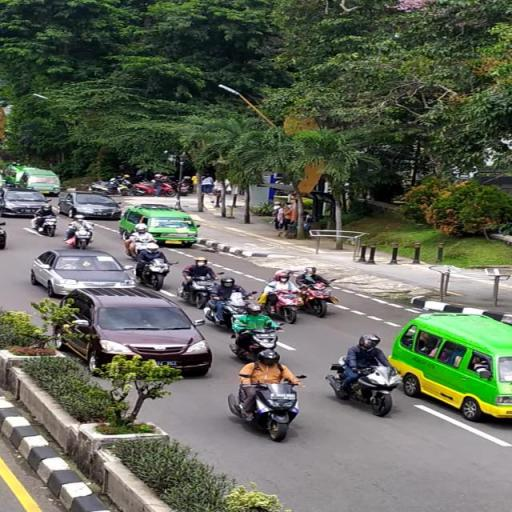Helmet: (354, 330, 382, 354), (259, 346, 279, 367), (244, 300, 262, 320), (274, 268, 293, 286), (220, 274, 236, 290), (192, 254, 208, 269), (302, 263, 316, 277), (134, 221, 148, 235), (40, 202, 52, 216), (147, 241, 158, 255), (73, 214, 87, 224)
Motor: (226, 379, 300, 441), (329, 356, 395, 416), (225, 324, 280, 366), (127, 254, 171, 289), (204, 290, 246, 326), (175, 272, 217, 307), (61, 222, 92, 248), (126, 232, 154, 254), (31, 216, 57, 235)
